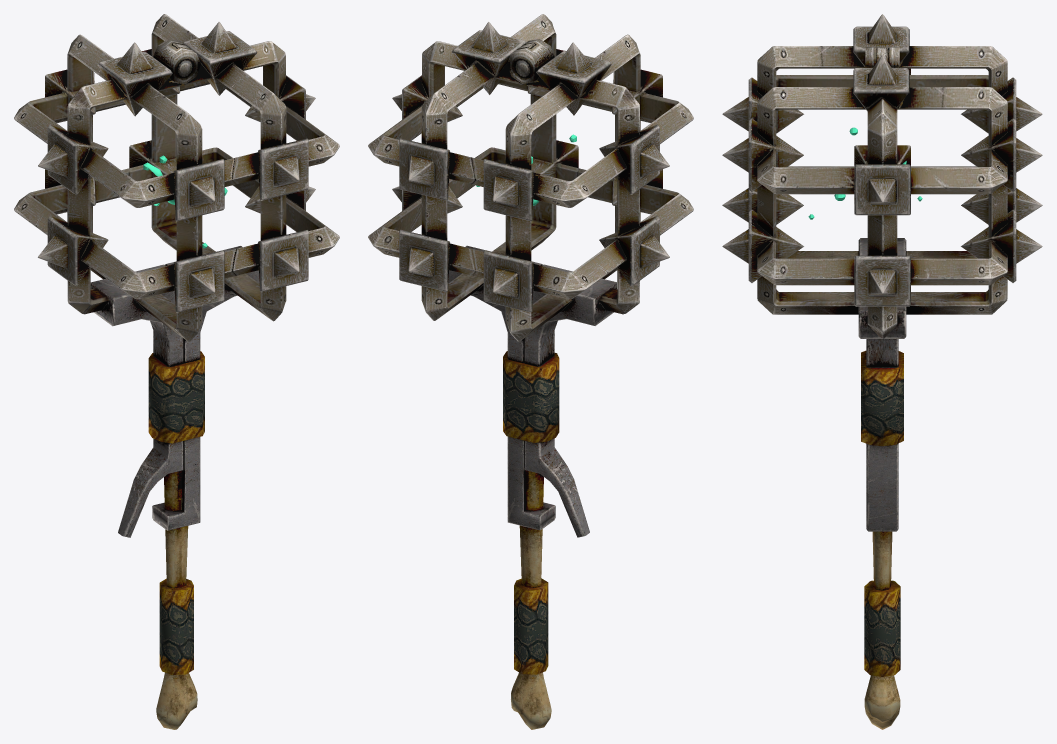
The model's file is ham003.obj.
3 renders of one model, left to right at view 1: azimuth 30°, elevation 25°; view 2: azimuth 150°, elevation 25°; view 3: azimuth 270°, elevation 25°, orthographic.
Visible parts, largest first — view 1: ham003_000_LOD_1; view 2: ham003_000_LOD_1; view 3: ham003_000_LOD_1.
Boxes of the visible parts, x1,y1,x2,y2 form: ham003_000_LOD_1: [14, 14, 339, 729]; ham003_000_LOD_1: [368, 14, 693, 729]; ham003_000_LOD_1: [722, 14, 1042, 729].
Bounding box in the file's own units: 85.36 × 204 × 85.25.
